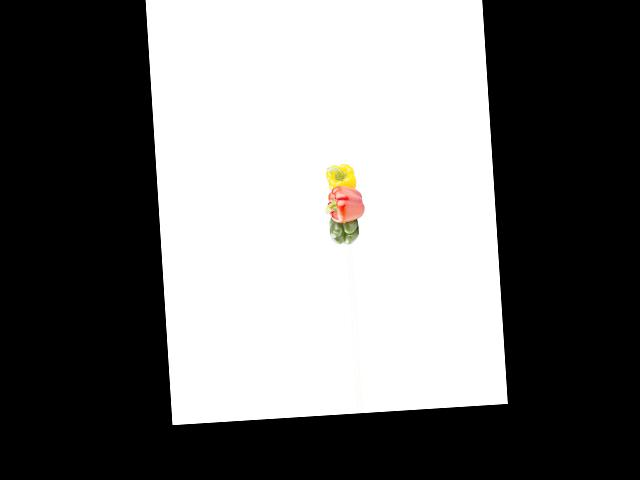bell_pepper: (322, 161, 362, 193)
